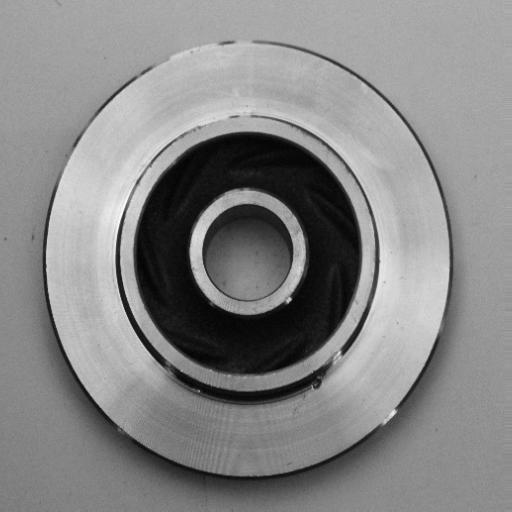crack: (309, 348, 350, 404)
scratch: (140, 106, 258, 167)
unpolished_casting: (43, 36, 454, 484)
